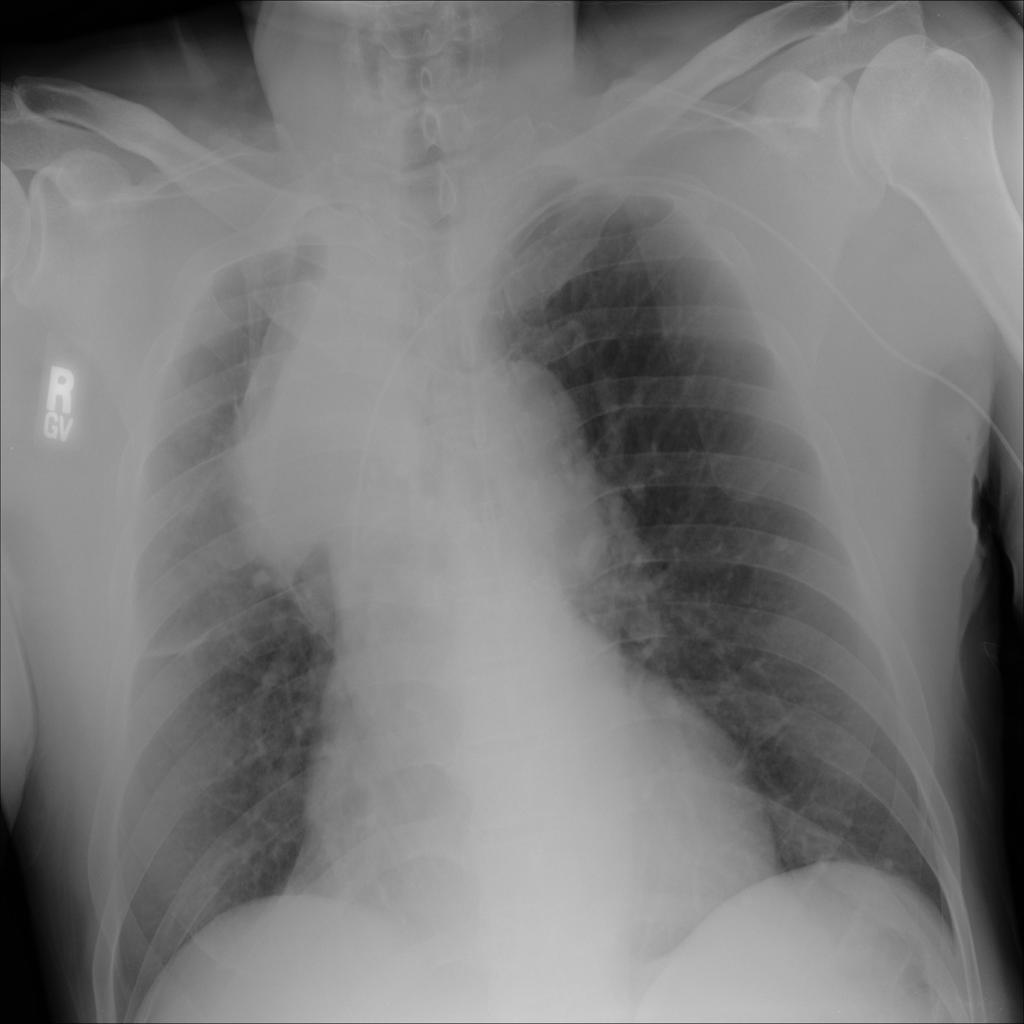nodule: (748, 504, 817, 576), (863, 842, 915, 888)
